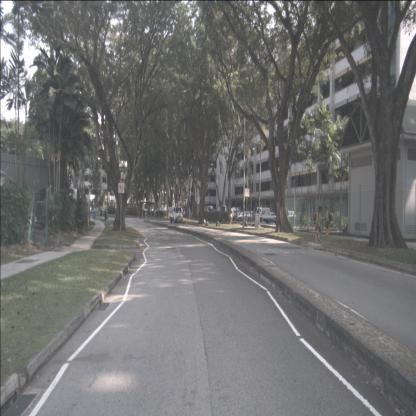human-pedestrian-adult: (319, 205, 333, 236), (312, 206, 322, 242), (229, 210, 234, 226)
vehicle-car: (274, 210, 296, 225), (237, 212, 253, 222), (229, 208, 241, 221), (204, 206, 214, 217)
vehicle-truck: (253, 207, 275, 224), (168, 207, 183, 223), (215, 206, 227, 219)
